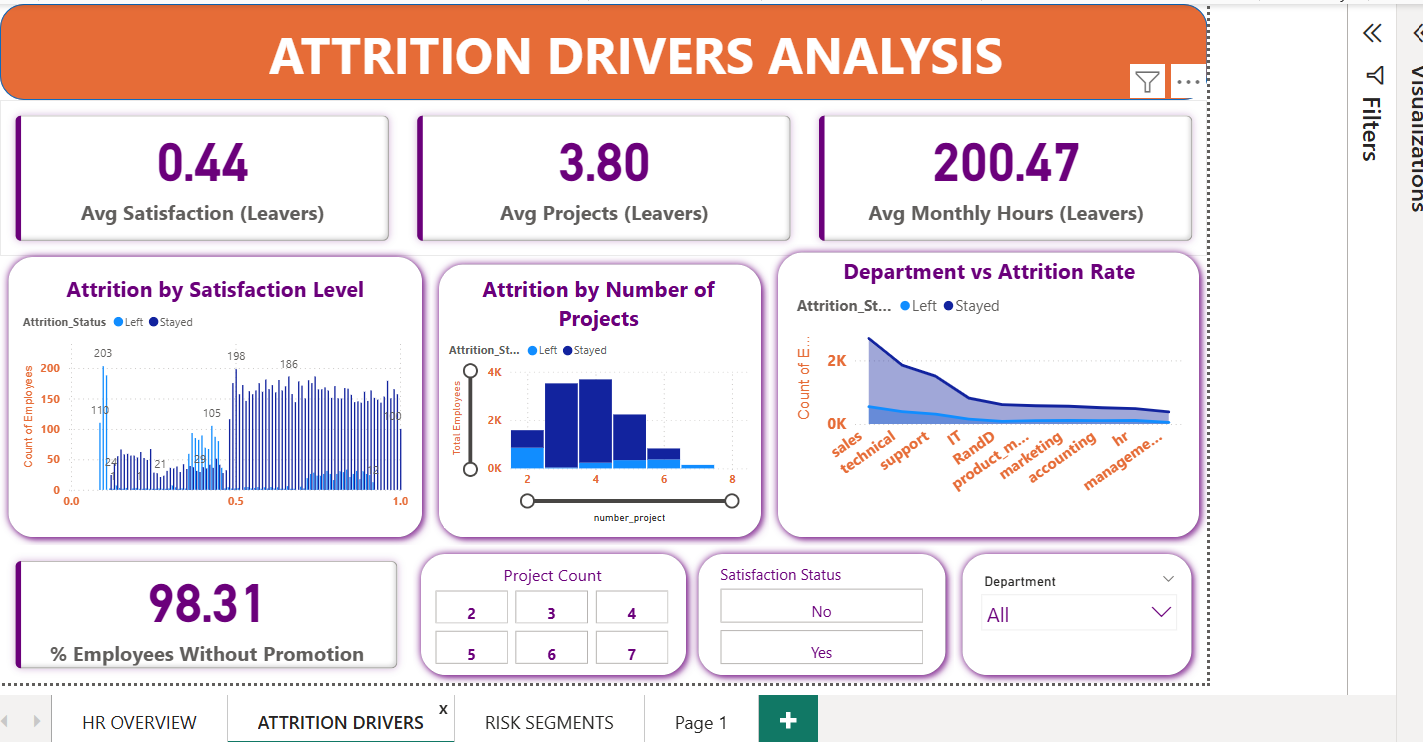

The page's visual inventory and layout, read from the dashboard file:
{"tool":"powerbi","page":{"name":"ATTRITION DRIVERS","canvas":[1280,720],"ordinal":1},"visuals":[{"type":"shape","box":[0,0,1280.4,101.8],"z":0},{"type":"textbox","box":[206.8,11.1,935.3,90.7],"z":1000},{"type":"cardVisual","fields":{"Data":["HR_cleaned.Avg Satisfaction (Leavers)","Avg(HR_cleaned.number_project)","Avg(HR_cleaned.average_montly_hours)"]},"box":[0,101.8,1280.4,165.4],"z":2000},{"type":"shape","box":[816,254.5,464.5,319.7],"z":3000},{"type":"areaChart","title":"Department vs Attrition Rate","fields":{"Category":["HR_cleaned.Department"],"Y":["HR_cleaned.Total Employees"],"Series":["HR_cleaned.Attrition_Status"]},"box":[839.8,267.2,418.3,287.9],"z":4000},{"type":"shape","box":[0,259.3,456.5,314.9],"z":5000},{"type":"clusteredColumnChart","title":"Attrition by Satisfaction Level","fields":{"Category":["HR_cleaned.satisfaction_level"],"Y":["HR_cleaned.Total Employees"],"Series":["HR_cleaned.Attrition_Status"]},"box":[19.1,286.3,418.3,268.8],"z":6000},{"type":"shape","box":[456.5,267.2,359.5,307],"z":7000},{"type":"columnChart","title":"Attrition by Number of Projects","fields":{"Y":["HR_cleaned.Total Employees"],"Category":["HR_cleaned.number_project"],"Series":["HR_cleaned.Attrition_Status"]},"box":[470.8,286.3,327.7,268.8],"z":8000},{"type":"shape","box":[1011.6,574.2,260.9,146.3],"z":9000},{"type":"slicer","fields":{"Values":["HR_cleaned.Department"]},"box":[1030.7,598.1,227.5,100.2],"z":10000},{"type":"shape","box":[731.7,574.2,279.9,146.3],"z":11000},{"type":"advancedSlicerVisual","fields":{"Values":["HR_cleaned.Satisfaction_Flag"]},"box":[758.7,593.3,225.9,111.3],"z":12000},{"type":"shape","box":[437.4,574.2,299,146.3],"z":13000},{"type":"advancedSlicerVisual","title":"Project Count","fields":{"Values":["HR_cleaned.number_project"]},"box":[456.5,593.3,259.3,111.3],"z":14000},{"type":"cardVisual","fields":{"Data":["HR_cleaned.No Promotion %"]},"box":[0,574.2,437.4,146.3],"z":15000}]}

Visuals, with their boxes on the page's 1280x720 design canvas (x1, y1, x2, y2). These are canvas units, not pixel positions in the 1423x742 screenshot, which may show the page scaled, cropped or inside an application window:
shape: x1=0, y1=0, x2=1280, y2=102
textbox: x1=207, y1=11, x2=1142, y2=102
cardVisual - HR_cleaned.Avg Satisfaction (Leavers) x Avg(HR_cleaned.number_project): x1=0, y1=102, x2=1280, y2=267
shape: x1=816, y1=254, x2=1280, y2=574
"Department vs Attrition Rate" areaChart: x1=840, y1=267, x2=1258, y2=555
shape: x1=0, y1=259, x2=456, y2=574
"Attrition by Satisfaction Level" clusteredColumnChart: x1=19, y1=286, x2=437, y2=555
shape: x1=456, y1=267, x2=816, y2=574
"Attrition by Number of Projects" columnChart: x1=471, y1=286, x2=798, y2=555
shape: x1=1012, y1=574, x2=1272, y2=720
slicer - HR_cleaned.Department: x1=1031, y1=598, x2=1258, y2=698
shape: x1=732, y1=574, x2=1012, y2=720
advancedSlicerVisual - HR_cleaned.Satisfaction_Flag: x1=759, y1=593, x2=985, y2=705
shape: x1=437, y1=574, x2=736, y2=720
"Project Count" advancedSlicerVisual: x1=456, y1=593, x2=716, y2=705
cardVisual - HR_cleaned.No Promotion %: x1=0, y1=574, x2=437, y2=720
